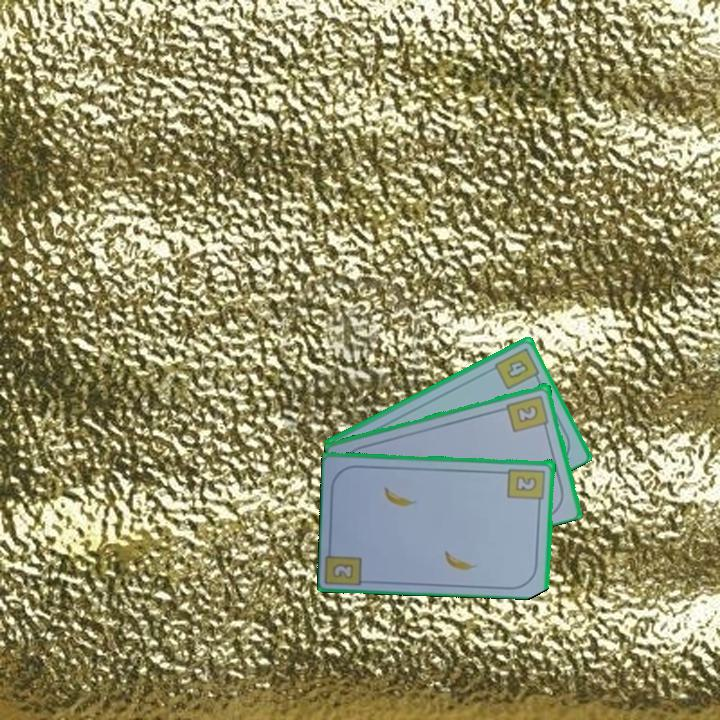2b: (504, 391, 552, 435), (505, 465, 548, 508), (331, 561, 354, 579)
4b: (491, 344, 543, 392)
